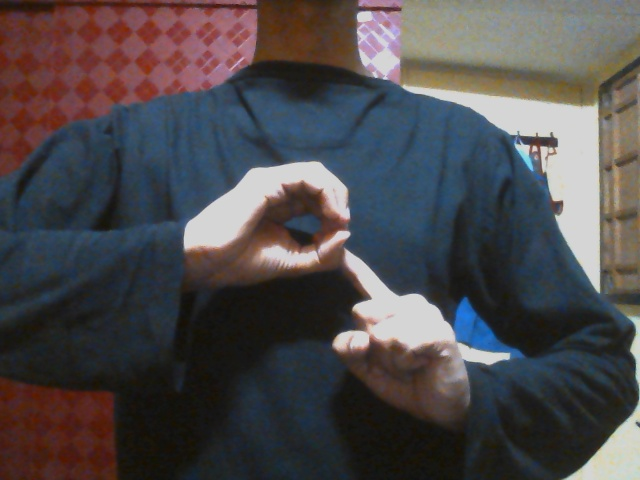Q: (191, 161, 465, 432)
